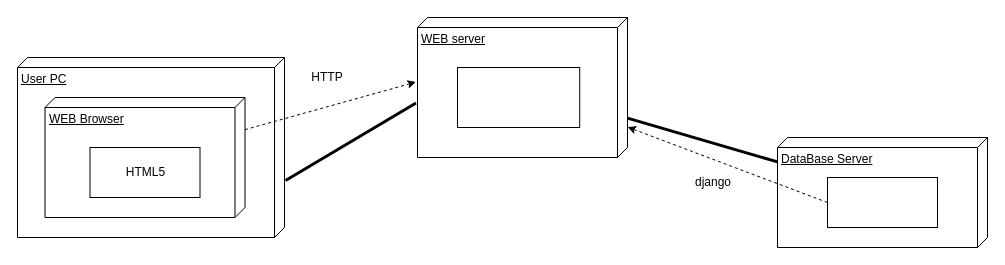
Image size: 1005x265. Some labels were removed from this diagram. The shapes that lost their labels are listed below. From the top down, each one's centre as x and y in pixels, then its label:
the point at 518,97: Application
the point at 882,202: SQLite DB
